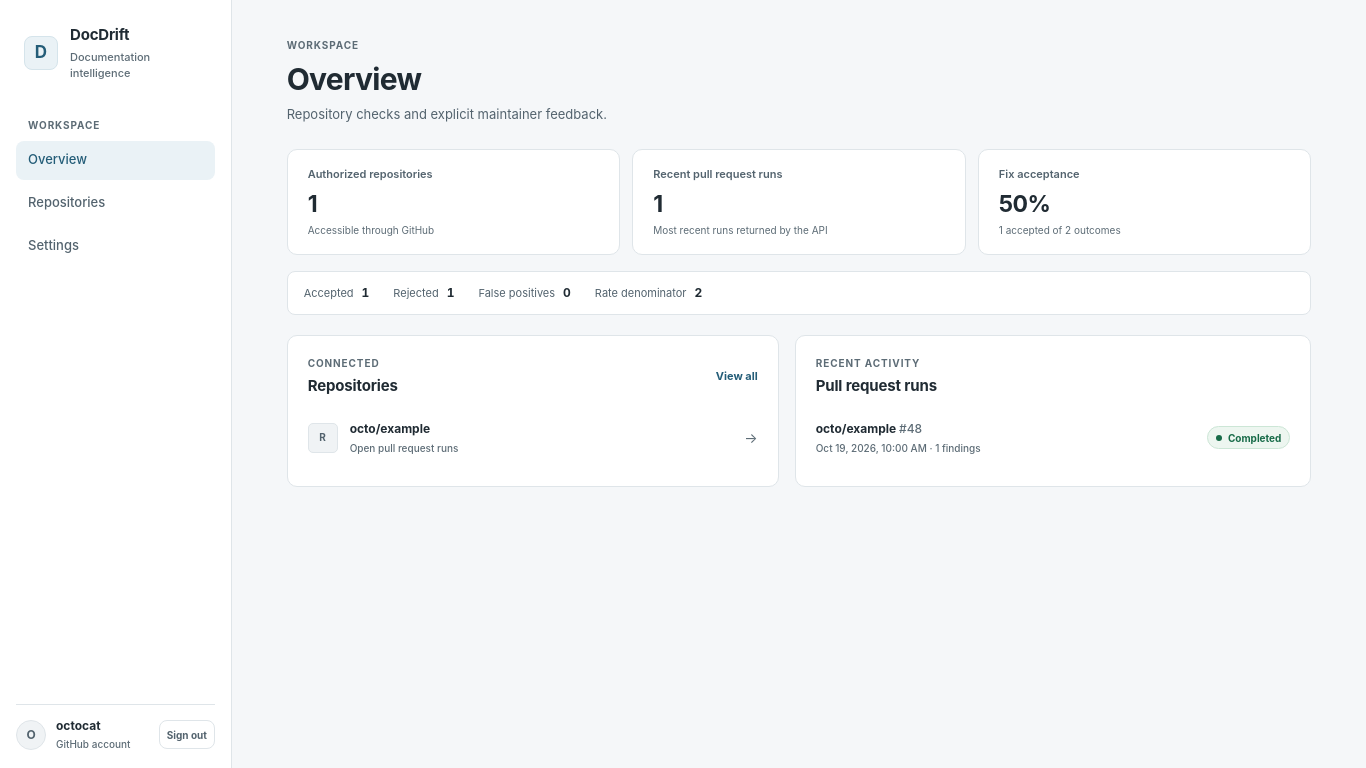
dashboard › renders authenticated overview and navigates to repository runs
This screenshot has width=1366, height=768.
Click the link "R octo/example Open pull request runs →" at (390, 428), box [308, 421, 758, 454]
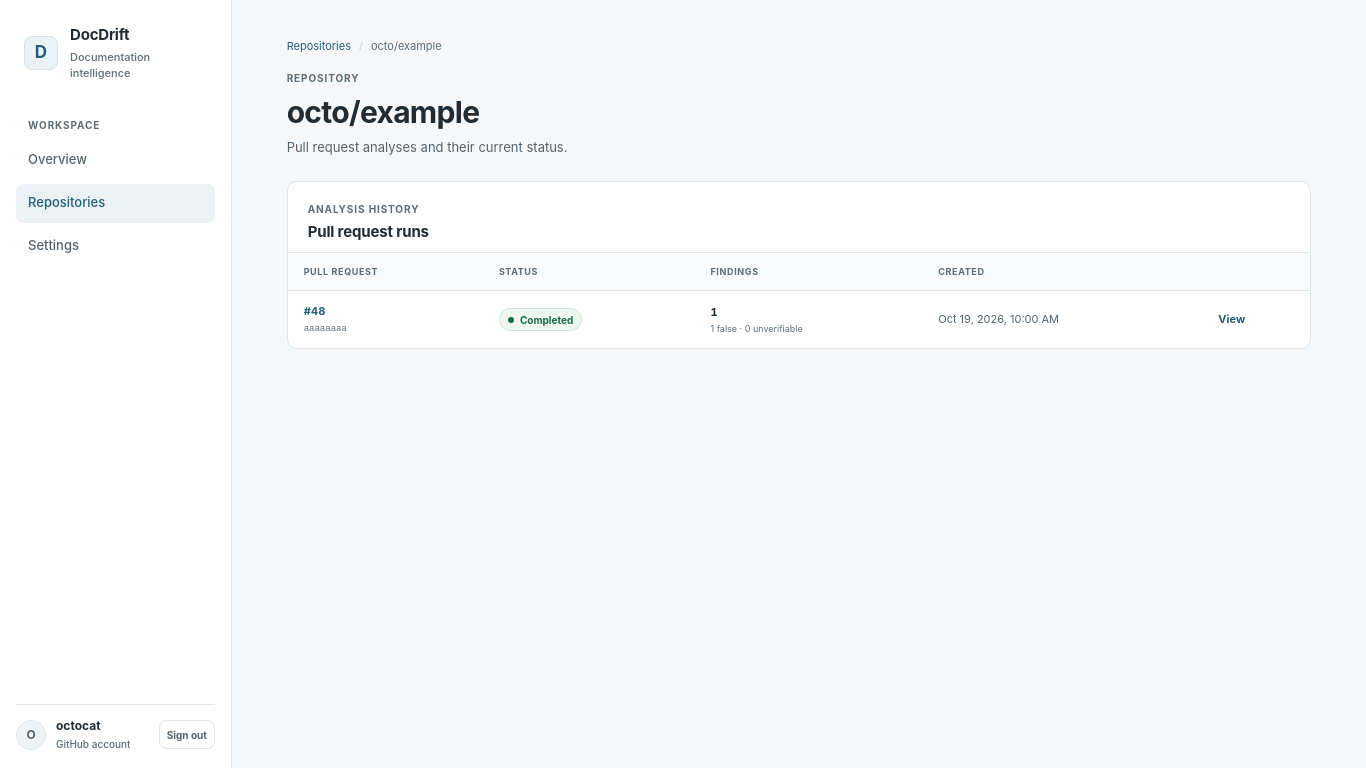
Expected: the link with aria-label "pull request 48" is shown, [1218, 312, 1245, 326]
Expected: the heading "octo/example" is shown, [287, 94, 479, 130]
